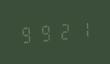nine: (36, 21, 53, 44), (18, 23, 35, 45)
one: (72, 18, 89, 40)
two: (54, 20, 71, 42)
